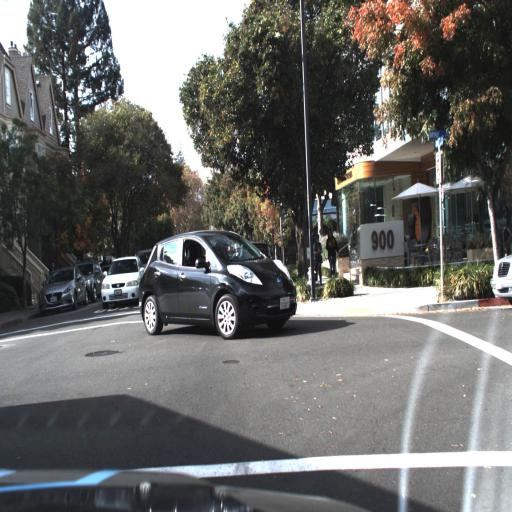car: (134, 228, 297, 334), (99, 253, 142, 310), (39, 267, 86, 310), (85, 259, 103, 306), (219, 247, 233, 279)
